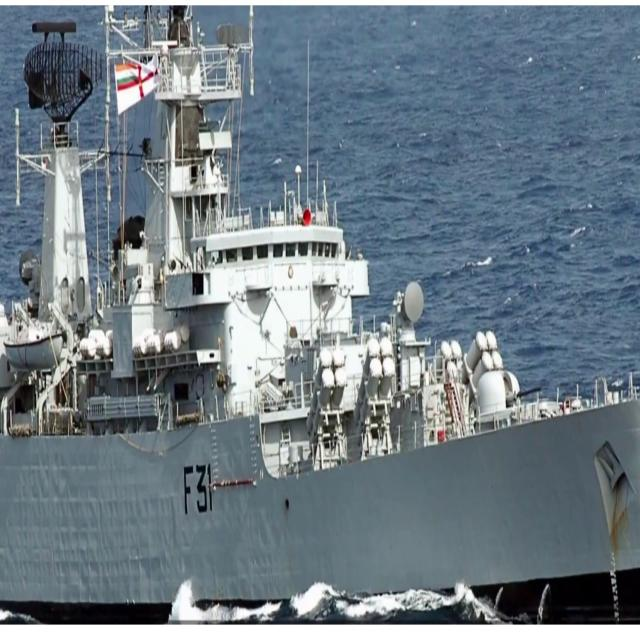OCR: (181, 461, 214, 520)
